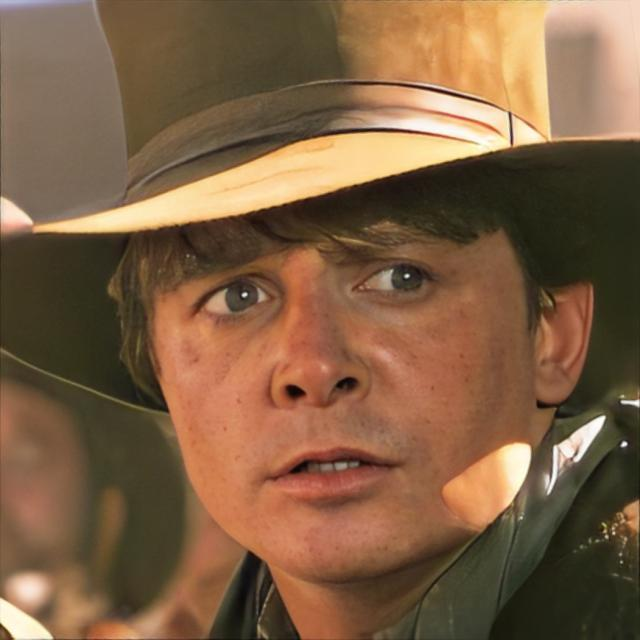fear: (144, 178, 536, 584)
